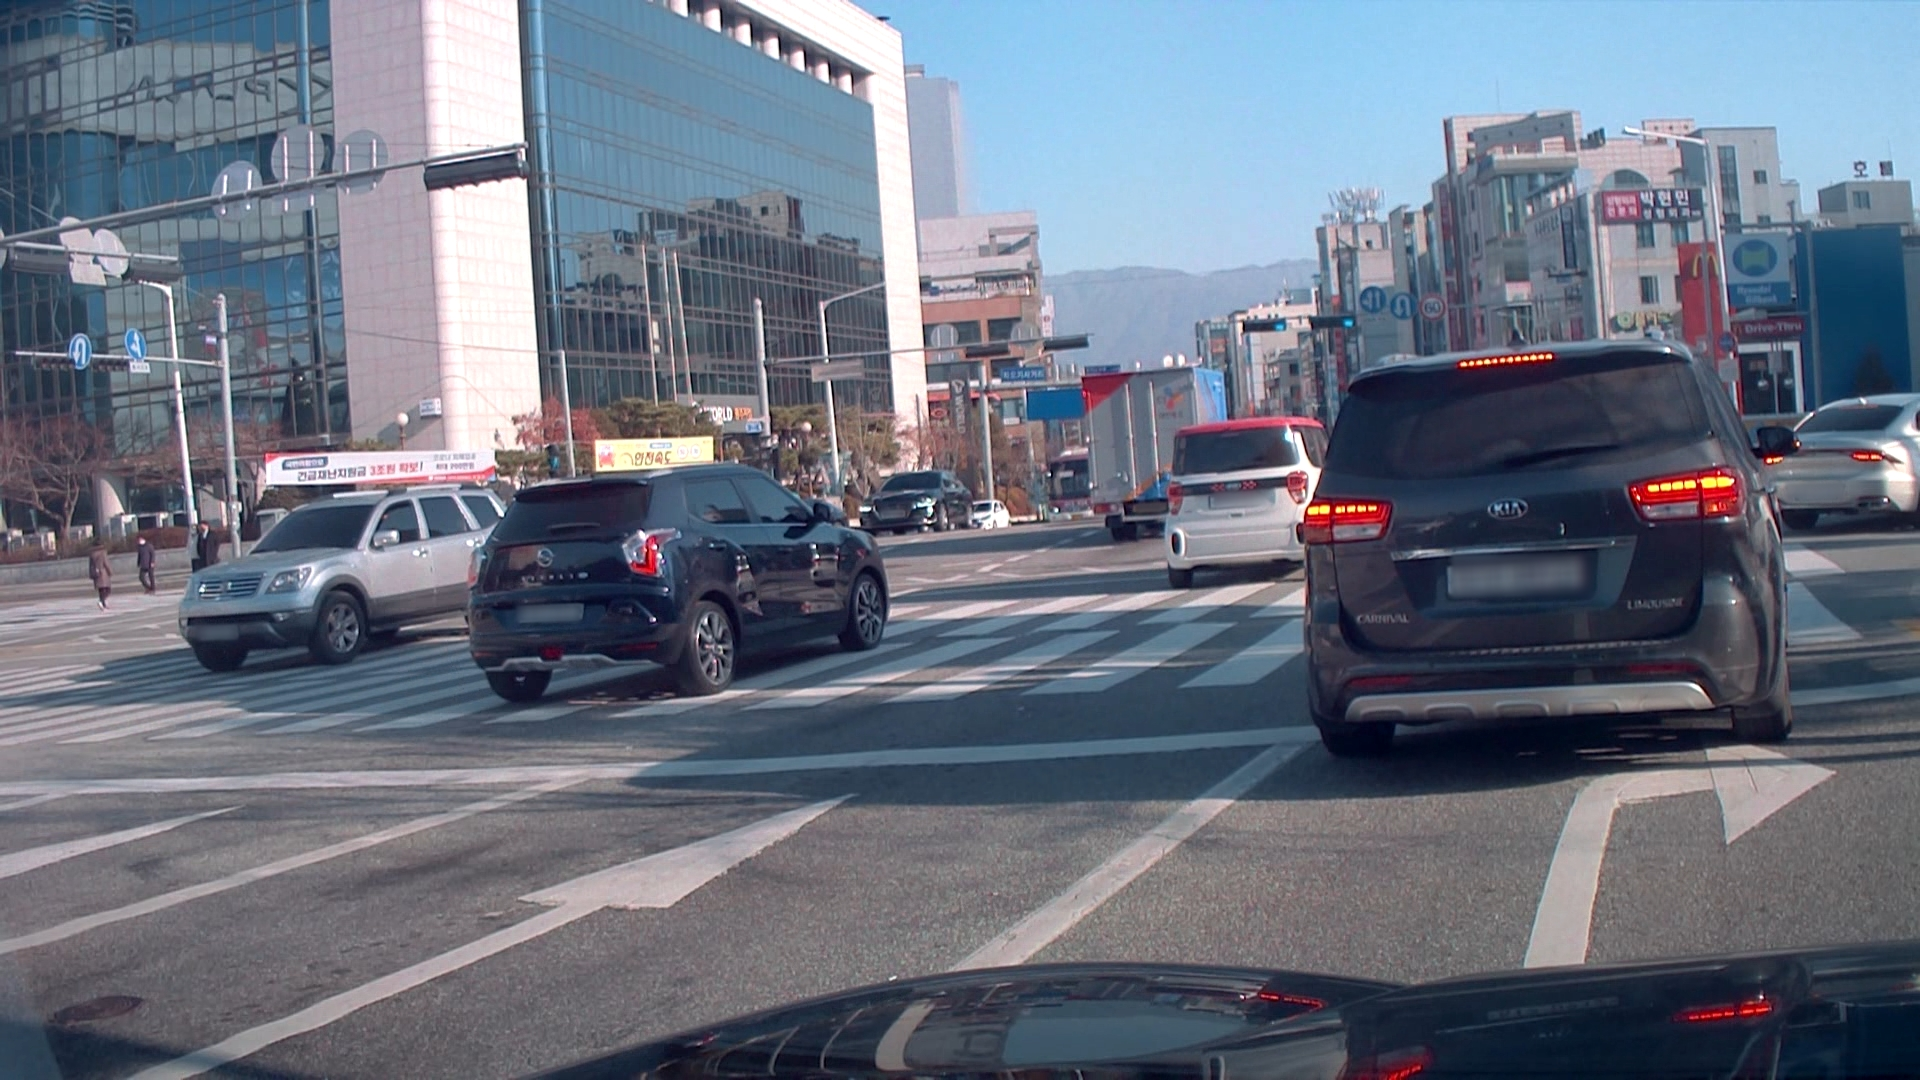trafficLight: (1242, 315, 1357, 336)
trafficSignCircle: (1360, 285, 1389, 313), (1425, 294, 1447, 319), (1396, 295, 1414, 324)
